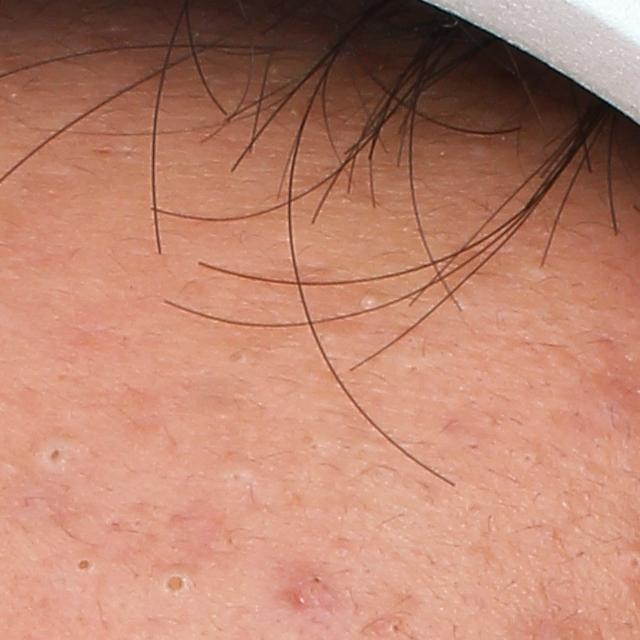comedo: (159, 568, 192, 596), (222, 461, 253, 490), (44, 443, 74, 468), (68, 554, 93, 576), (385, 615, 406, 639), (519, 447, 539, 470)
